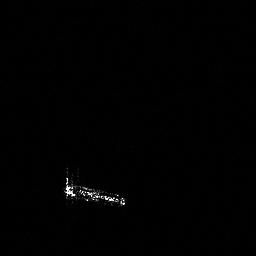ship: (61, 166, 127, 211)
